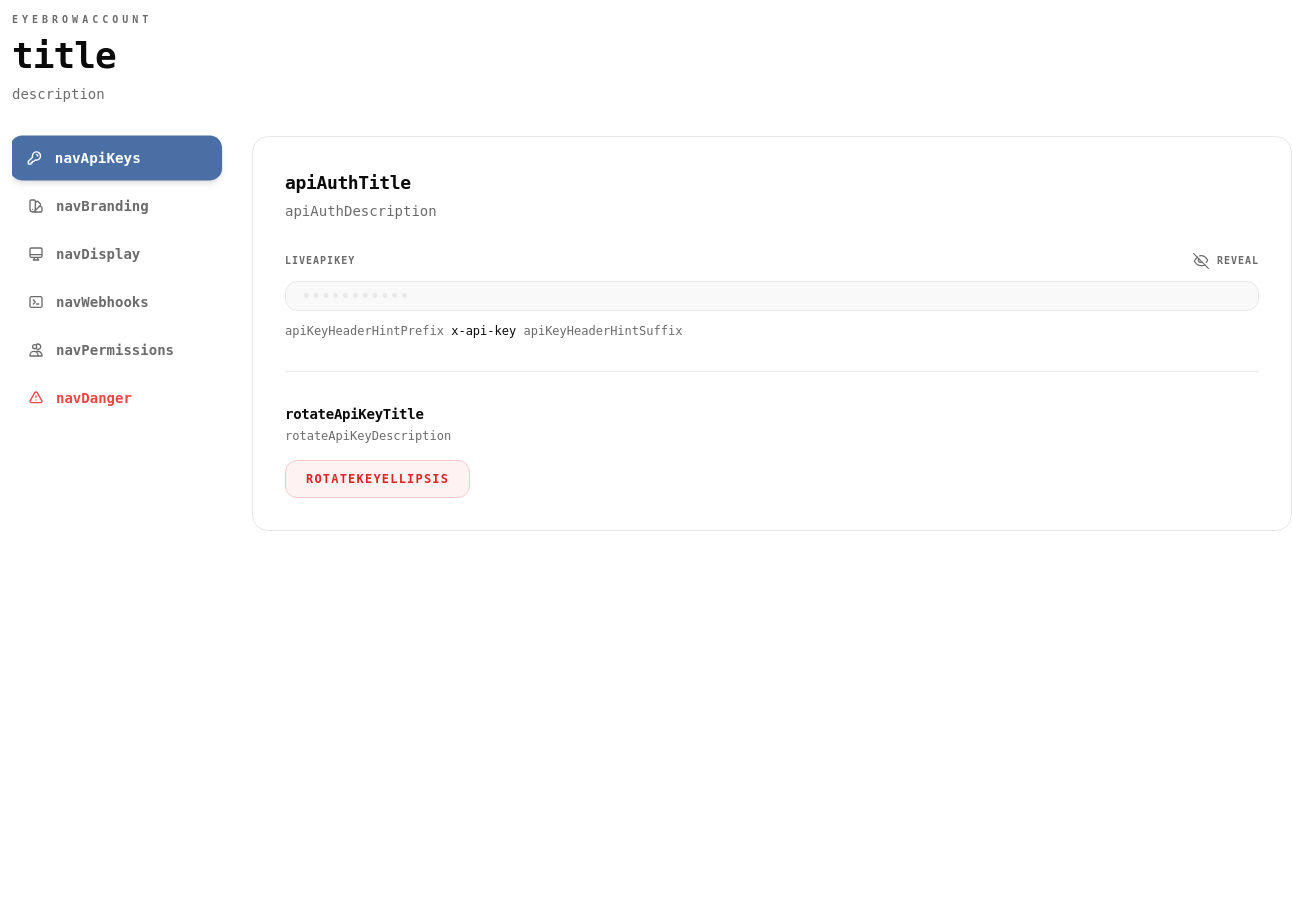
SettingsWidget › API Keys tab › shows rotate key confirmation flow
Expected: the heading "apiAuthTitle" is shown, left=285, top=172, right=411, bottom=193
Click the button "rotateKeyEllipsis" at (378, 479), box left=285, top=460, right=470, bottom=498
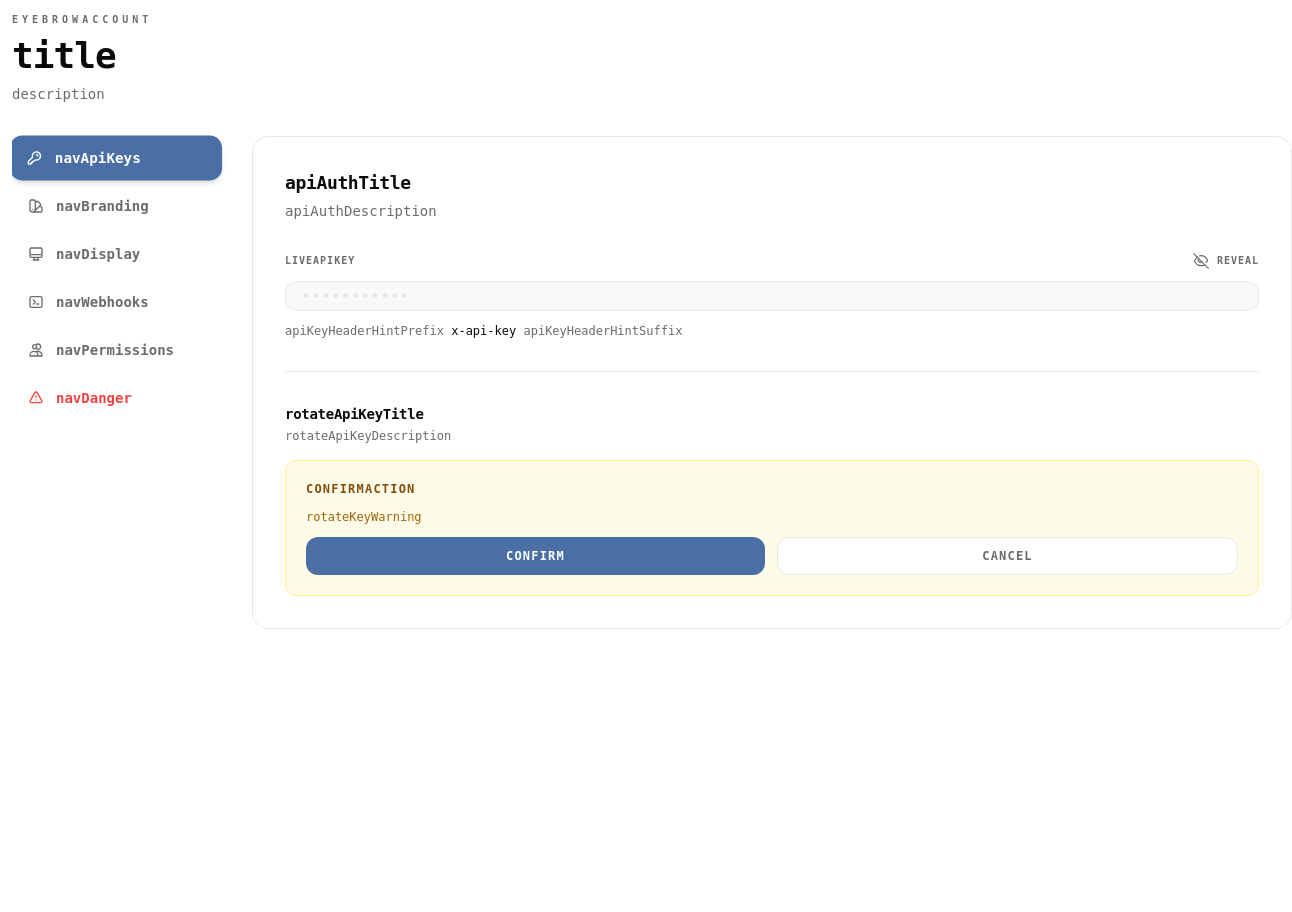
Expected: the text "confirmAction" is shown, left=306, top=482, right=416, bottom=496
